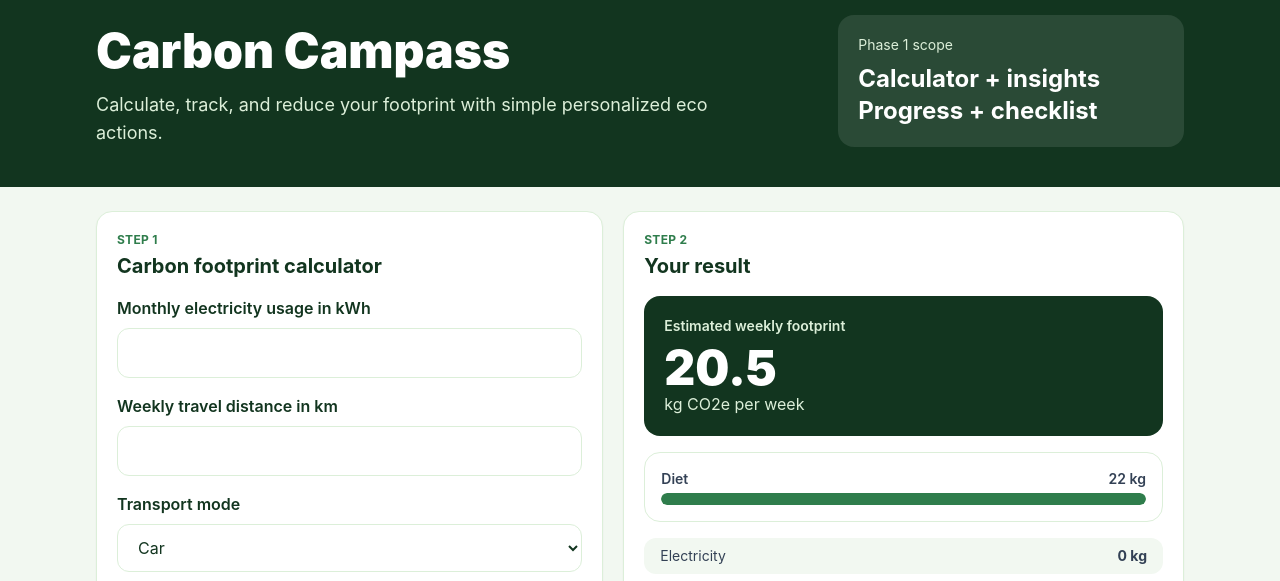
Test: App › blocks invalid negative input and shows accessible errors
In the number field labelled "Monthly electricity usage in kWh": (350, 353) [117, 328, 582, 378], type "-10"
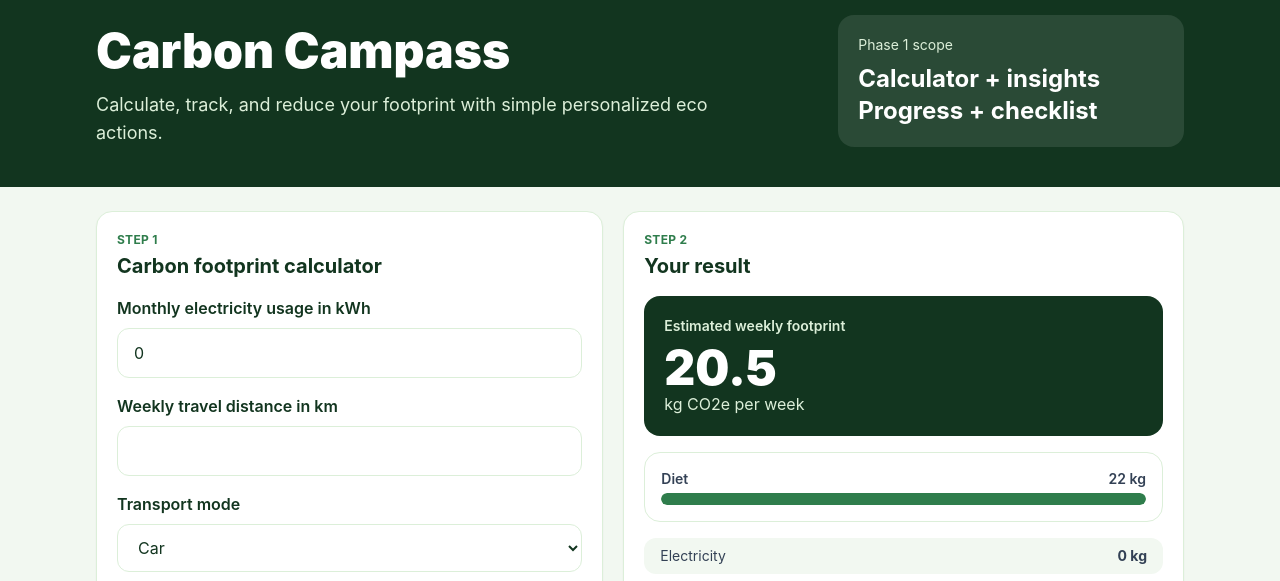
Clear the number field labelled "Weekly travel distance in km": (350, 451) [117, 426, 582, 476]
(page scrolled)
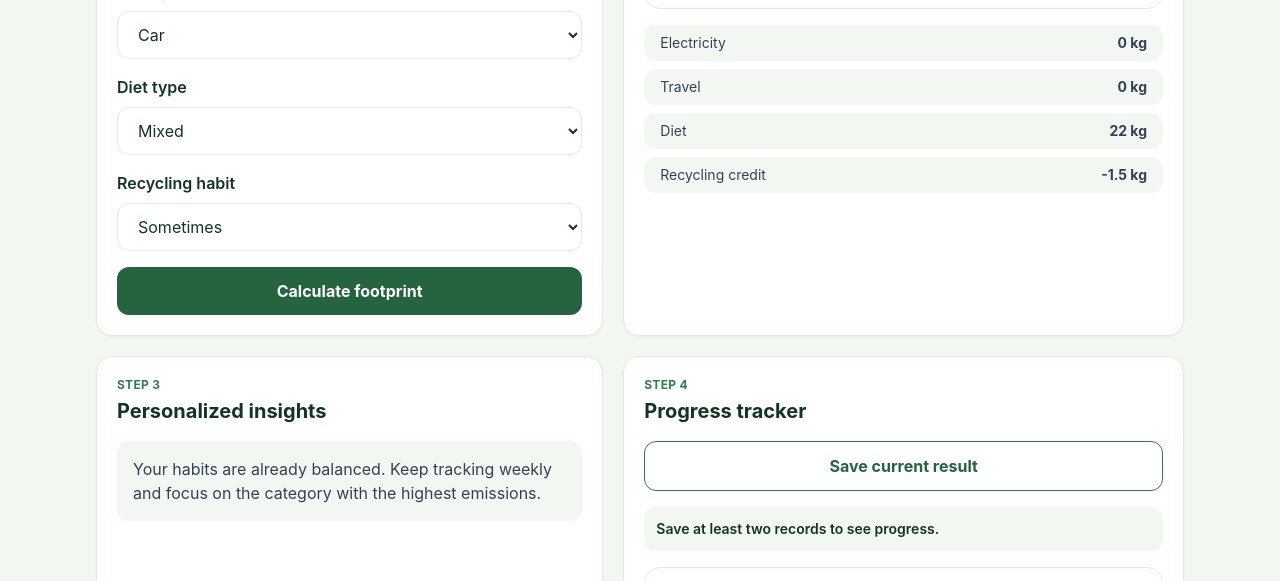
Click the button "Calculate footprint": click(350, 291) [117, 267, 582, 315]
(page scrolled)
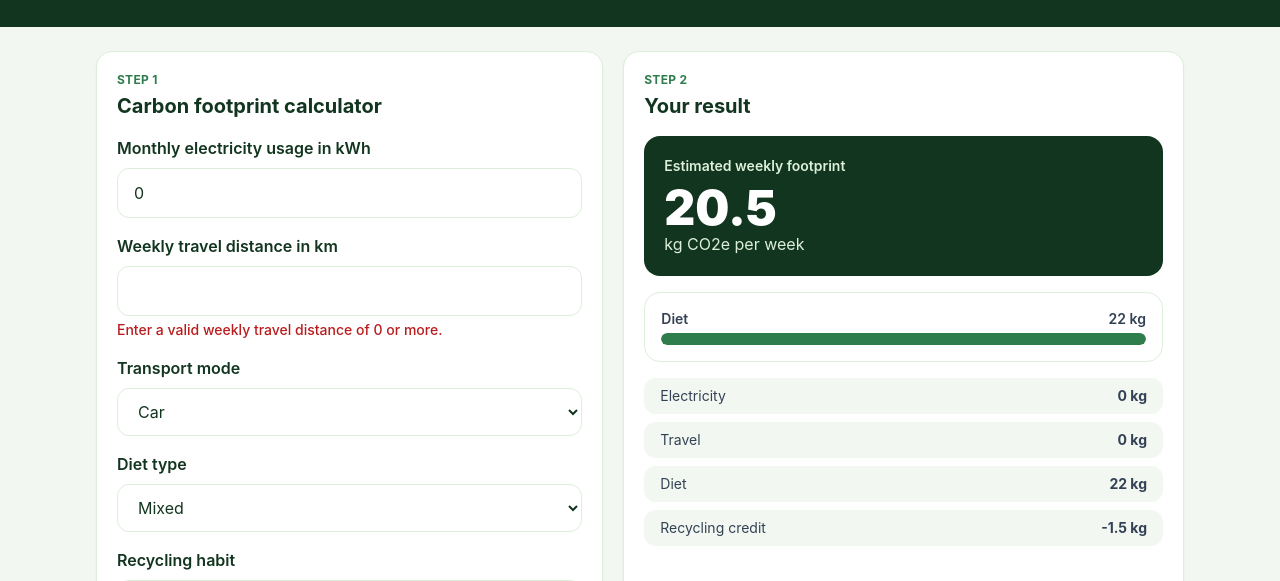
Now the number field labelled "Monthly electricity usage in kWh" holds "0", box [117, 168, 582, 218]
Now the text "Enter a valid weekly travel distance of 0 or more." is shown, box [117, 321, 442, 338]
